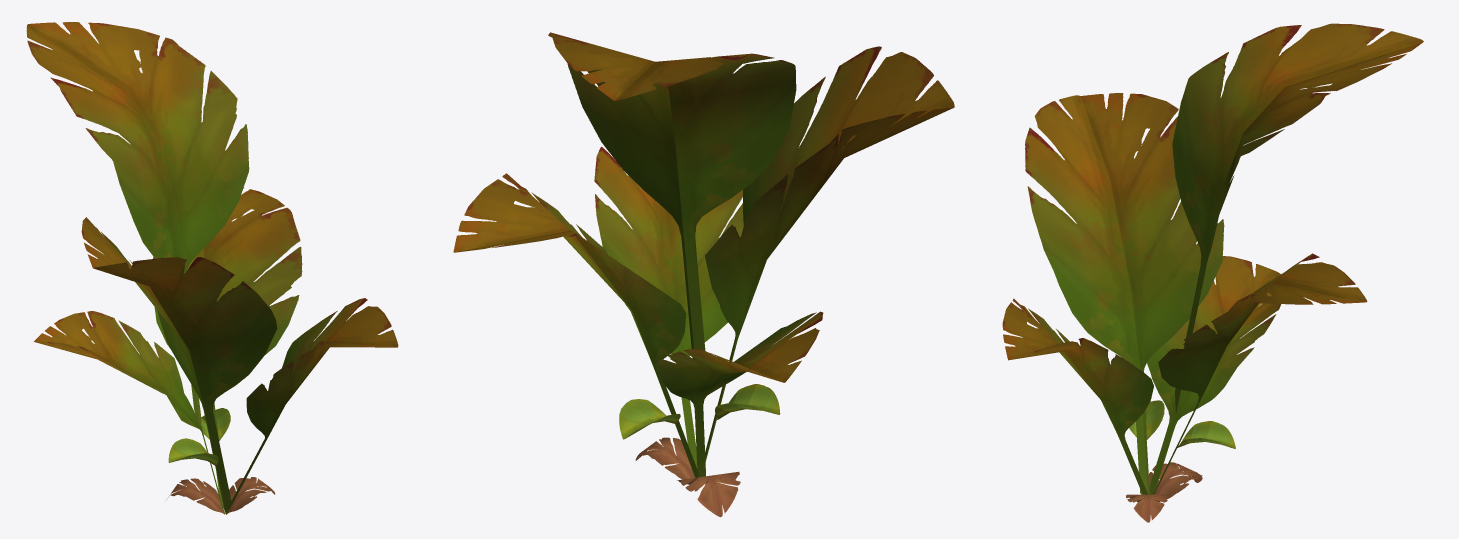
Rendered from Veg_LargeGreen.fbx.
The picture shows the model from 3 angles, left to right: view 1: azimuth 30°, elevation 25°; view 2: azimuth 150°, elevation 25°; view 3: azimuth 270°, elevation 25°; orthographic projection. The views are drawn at different scales.
Parts seen in each view (by area): view 1: Veg_LargeGreen; view 2: Veg_LargeGreen; view 3: Veg_LargeGreen.
Boxes of the visible parts, x1,y1,x2,y2 form: Veg_LargeGreen: (26,22,398,514); Veg_LargeGreen: (453,32,954,517); Veg_LargeGreen: (1002,23,1423,522).
Bounding box in the file's own units: 168 × 224 × 207.
